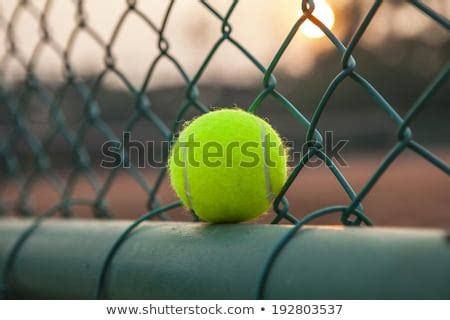tennis_ball: (167, 108, 288, 223)
